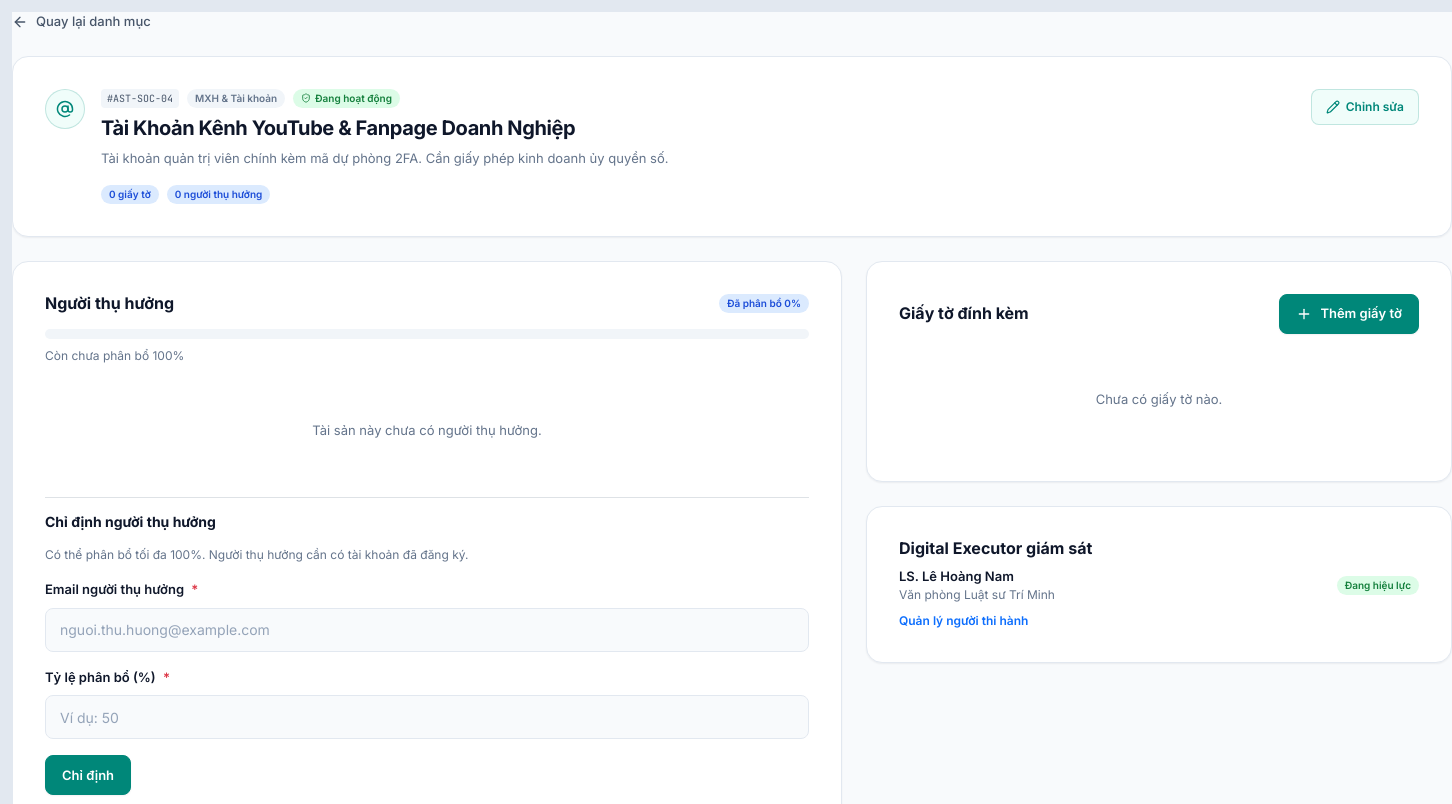
Scenario: AssetDetailPage assign beneficiary › assign_EmptyForm_ShowsValidationErrors
Click the button "Chỉ định" at [88, 775], box [45,755,131,795]
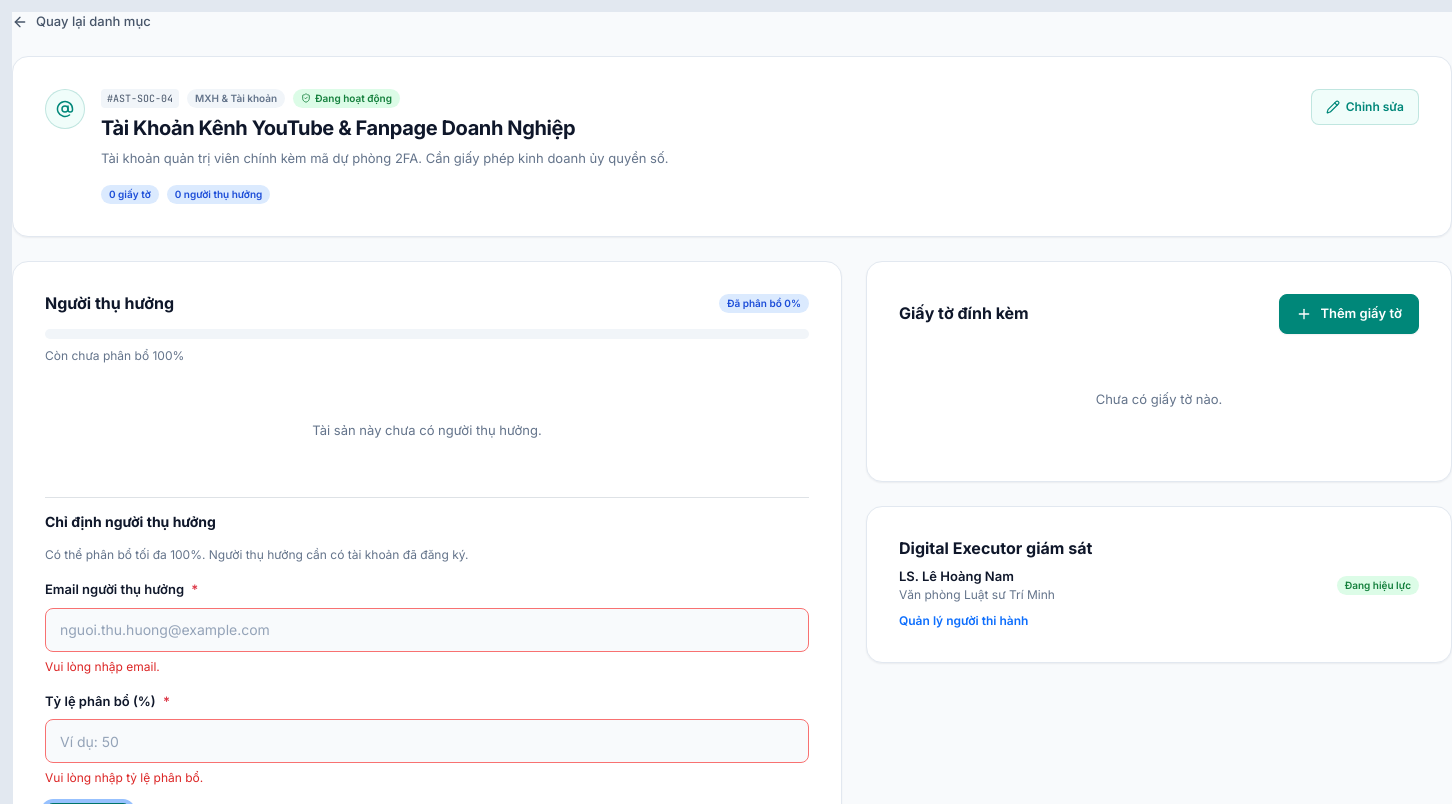
Expected: the text "Vui lòng nhập email." is shown, [45,659,160,674]
Expected: the text "Vui lòng nhập tỷ lệ phân bổ." is shown, [45,770,203,785]
